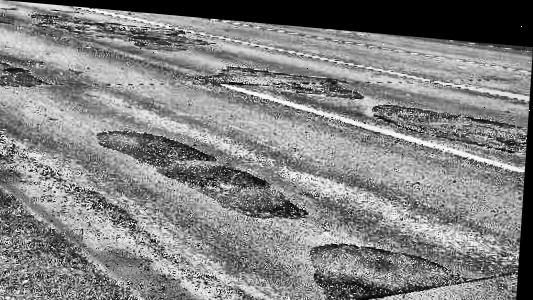pothole: (102, 123, 317, 219), (301, 232, 463, 300), (373, 92, 530, 155), (192, 52, 367, 99), (0, 57, 46, 95)
